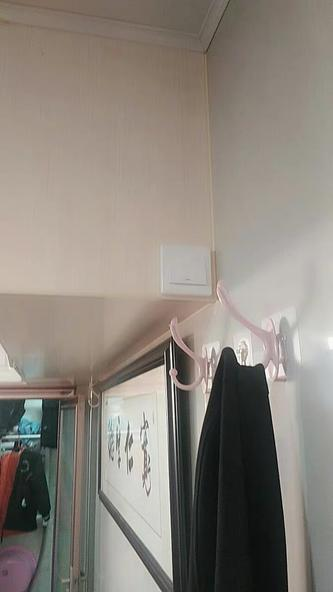switch: (170, 248, 213, 292)
